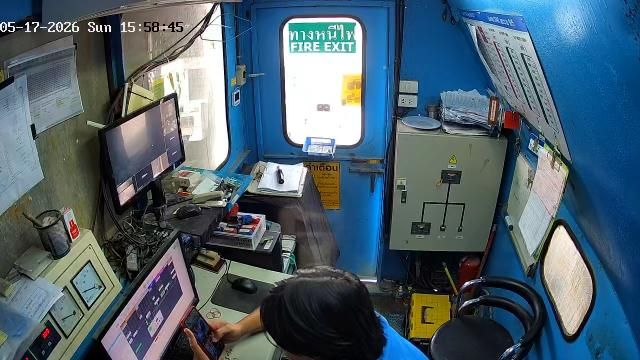Head: (261, 270, 393, 358)
People: (191, 262, 426, 360)
Phone: (181, 306, 226, 360)
